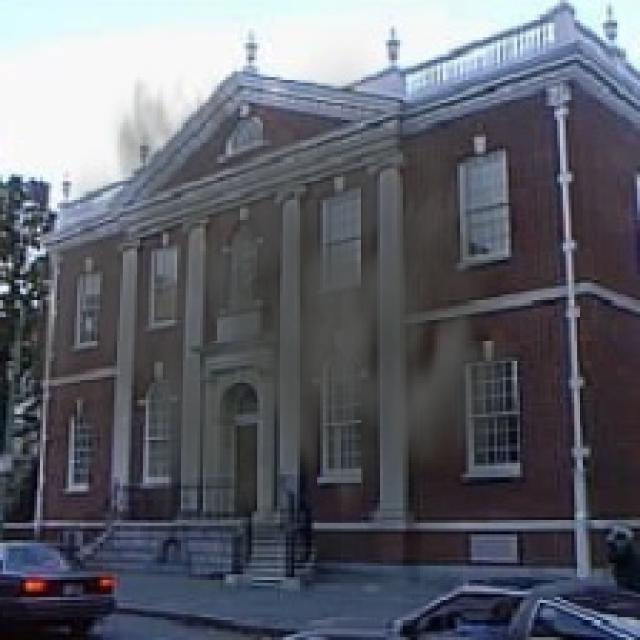smoke: (32, 29, 554, 560)
